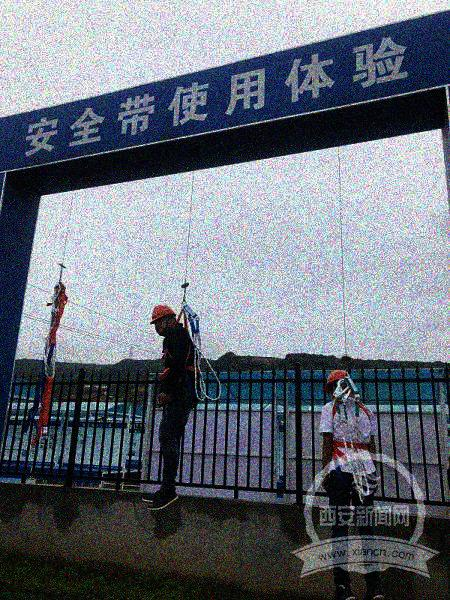helmet: (150, 303, 180, 337), (323, 369, 353, 397)
